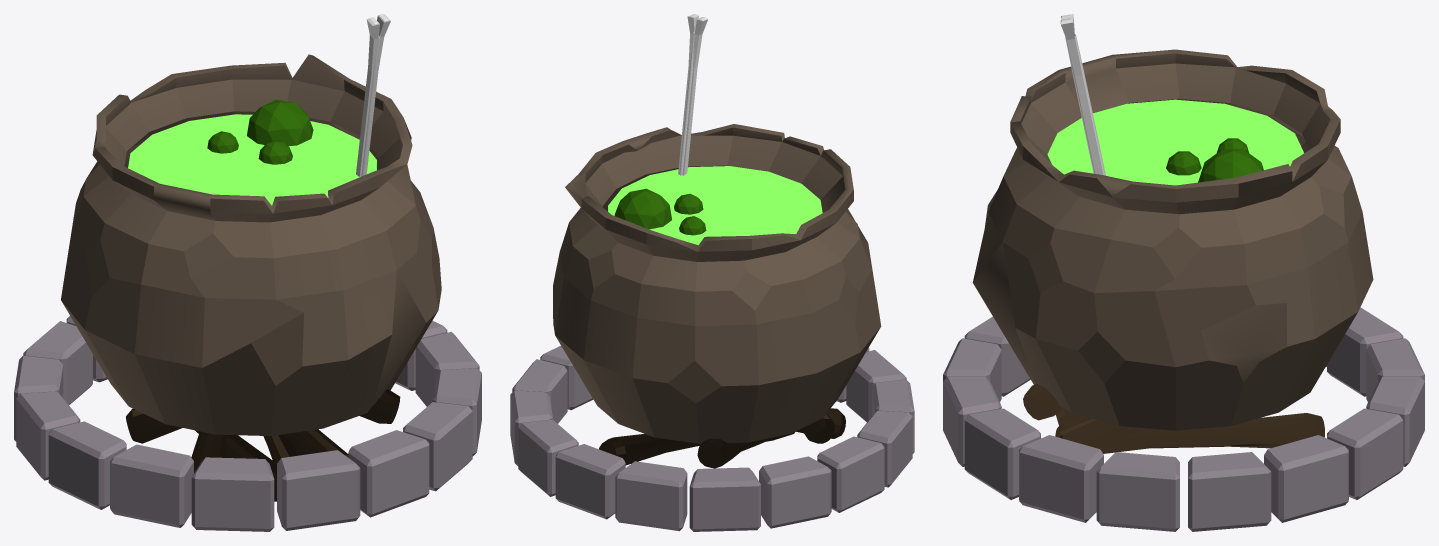
The model's file is cooking_pot.fbx.
The picture shows the model from 3 angles, left to right: view 1: azimuth 30°, elevation 25°; view 2: azimuth 150°, elevation 25°; view 3: azimuth 270°, elevation 25°; orthographic projection. The views are drawn at different scales.
Parts seen in each view (by area): view 1: Icosphere.004, Circle, Wood_Sticks; view 2: Icosphere.004, Circle, Wood_Sticks; view 3: Icosphere.004, Circle, Wood_Sticks.
Part boxes in pixels (bbox=[...]): Icosphere.004: bbox=[61, 14, 441, 435]; Circle: bbox=[14, 316, 481, 531]; Wood_Sticks: bbox=[126, 389, 400, 501]; Icosphere.004: bbox=[553, 14, 881, 443]; Circle: bbox=[510, 345, 914, 531]; Wood_Sticks: bbox=[599, 408, 845, 468]; Icosphere.004: bbox=[972, 14, 1373, 430]; Circle: bbox=[943, 307, 1424, 531]; Wood_Sticks: bbox=[1023, 384, 1324, 453].
Size of the model in its own units: 31.91 by 34.93 by 31.91.
